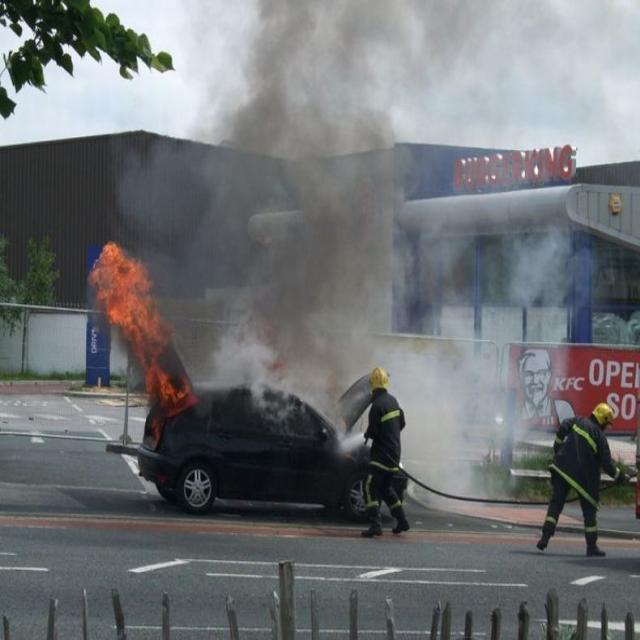Fire: (90, 245, 190, 412)
Smoke: (110, 0, 640, 506)
